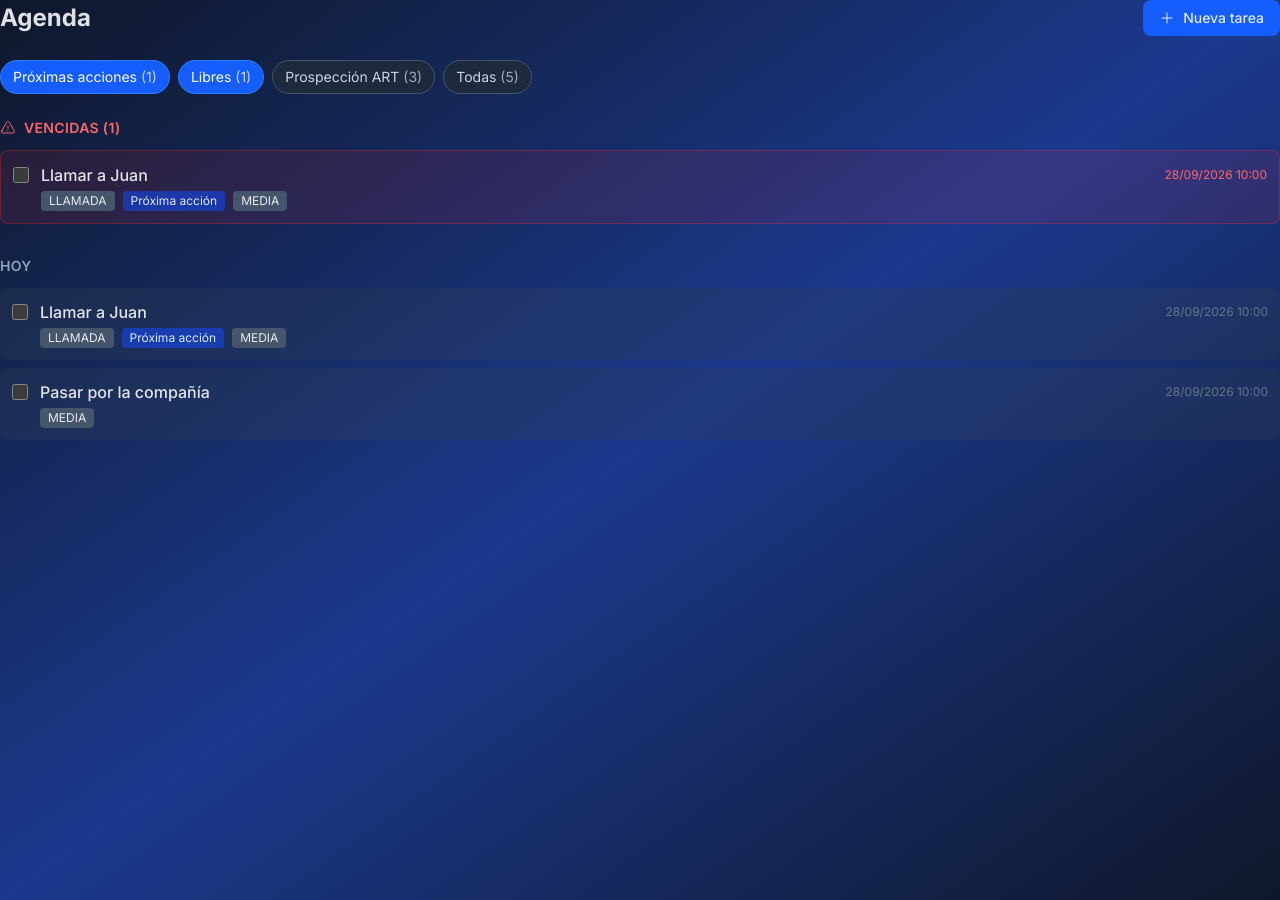
Test: AgendaPanel › completar una de prospección ART también pasa por el modal
The width and height of the screenshot is (1280, 900).
Expected: the text "Pasar por la compañía" is shown, 40,380 -> 210,404
Click the button "Prospección ART (3)".
click(354, 77)  # box 272,60 -> 435,94
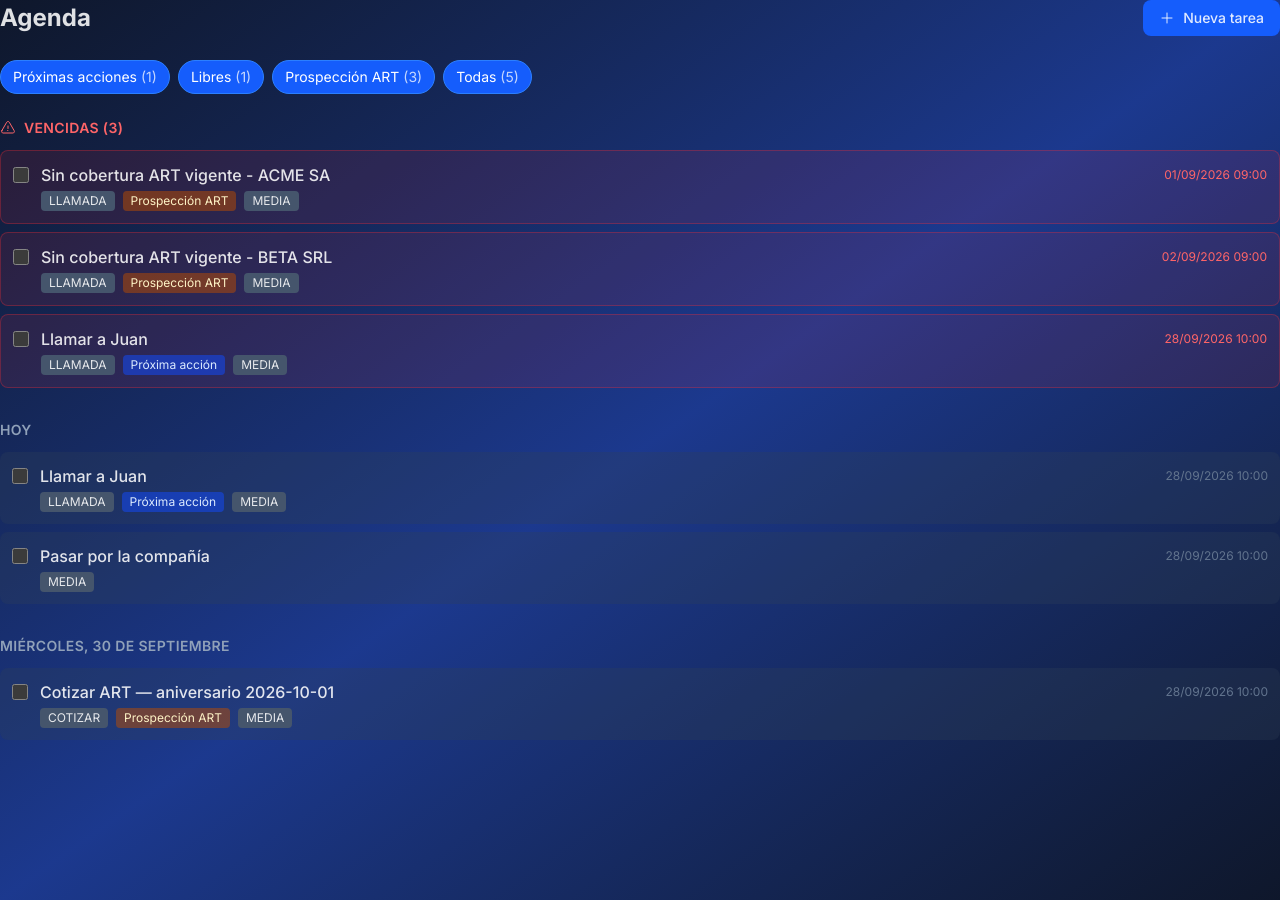
Click the checkbox named "Completar Sin cobertura ART vigente - ACME SA".
click(21, 175)  # box 13,167 -> 29,183
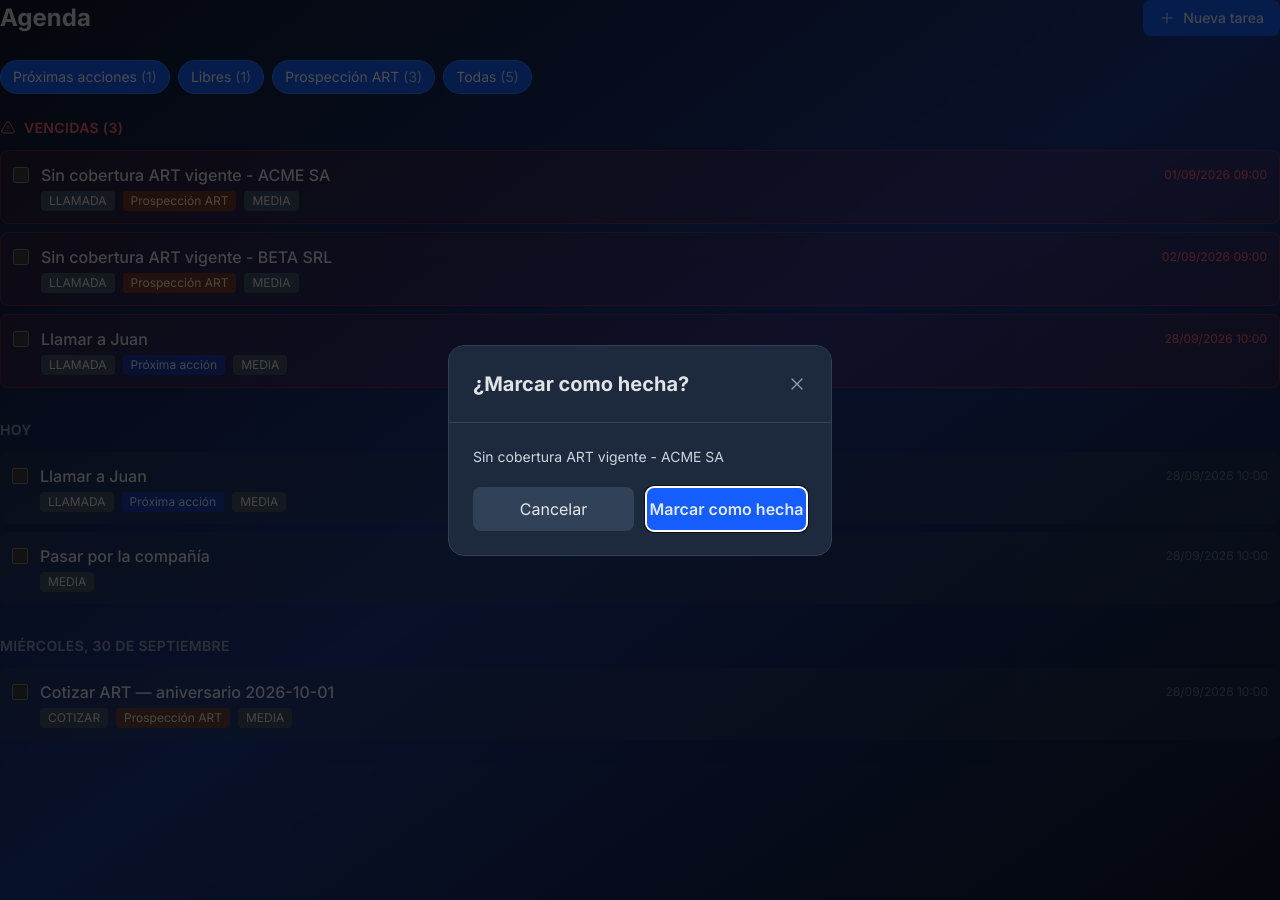
Result: the dialog named "¿Marcar como hecha?" is shown at 473,446 -> 807,530
